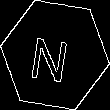N_N: (32, 27, 78, 83)
